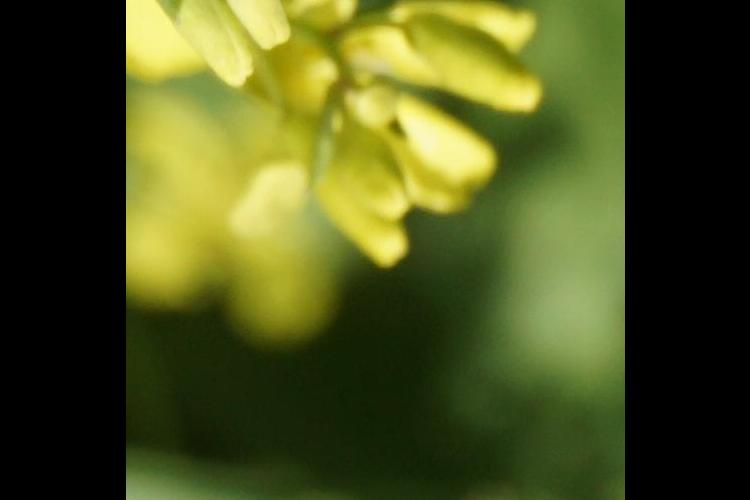bud: (409, 4, 556, 108), (296, 183, 416, 277), (375, 1, 542, 63), (395, 98, 501, 194), (323, 112, 412, 222), (170, 1, 256, 99), (226, 1, 292, 61)
